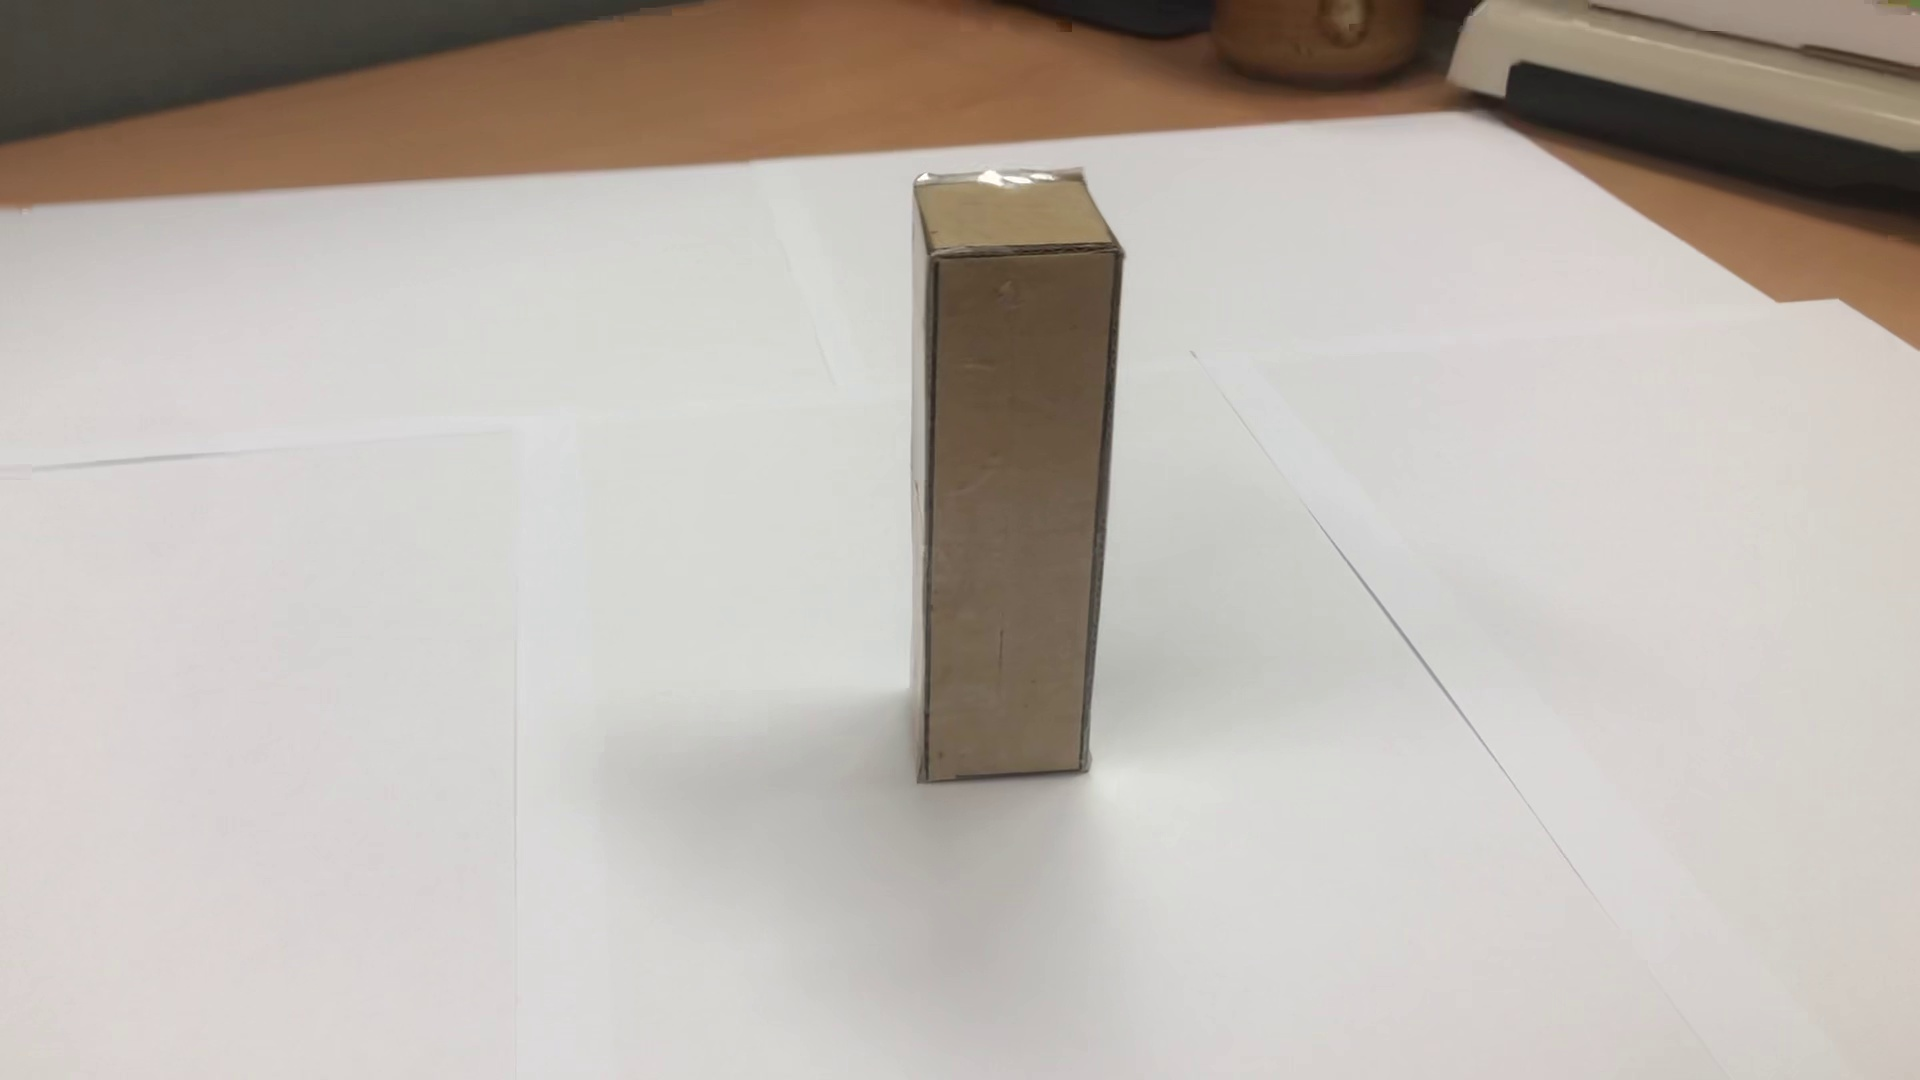box: (872, 152, 1126, 802)
